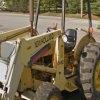Tractor: (13, 20, 100, 100)
